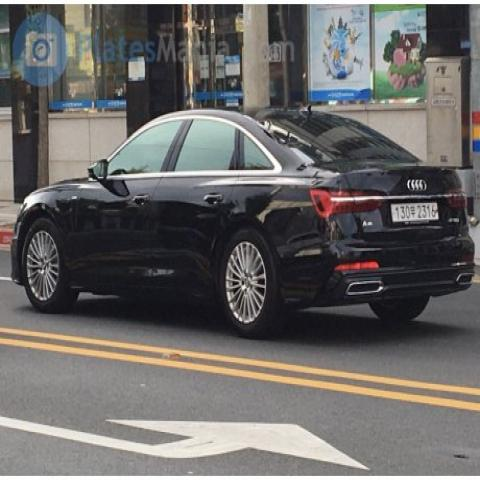LP: (384, 191, 444, 228)
